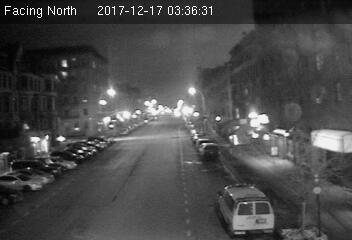police: (217, 181, 277, 236)
